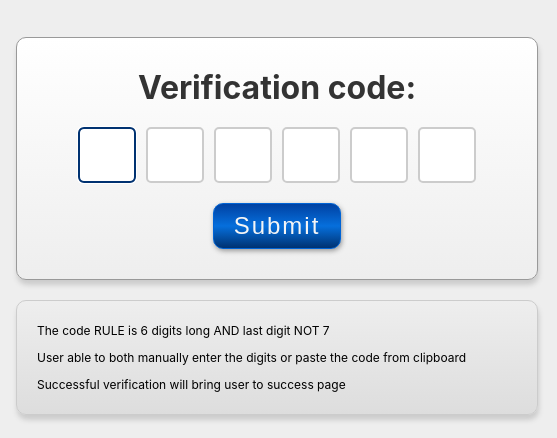
Test case: submitting empty form should show error alert
Step 1. Click the button → (277, 226), box [213,203,341,249]
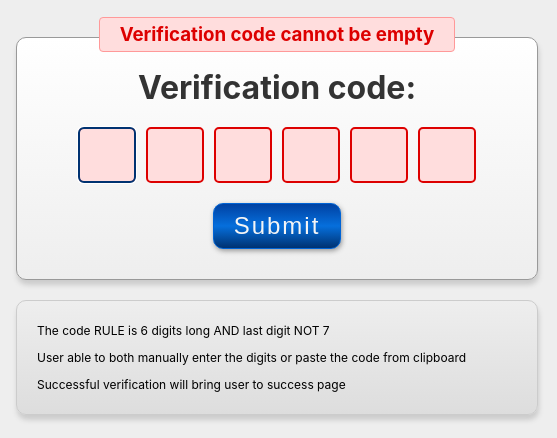
Expected: the heading "Verification code cannot be empty" is shown, [99,17,455,52]
